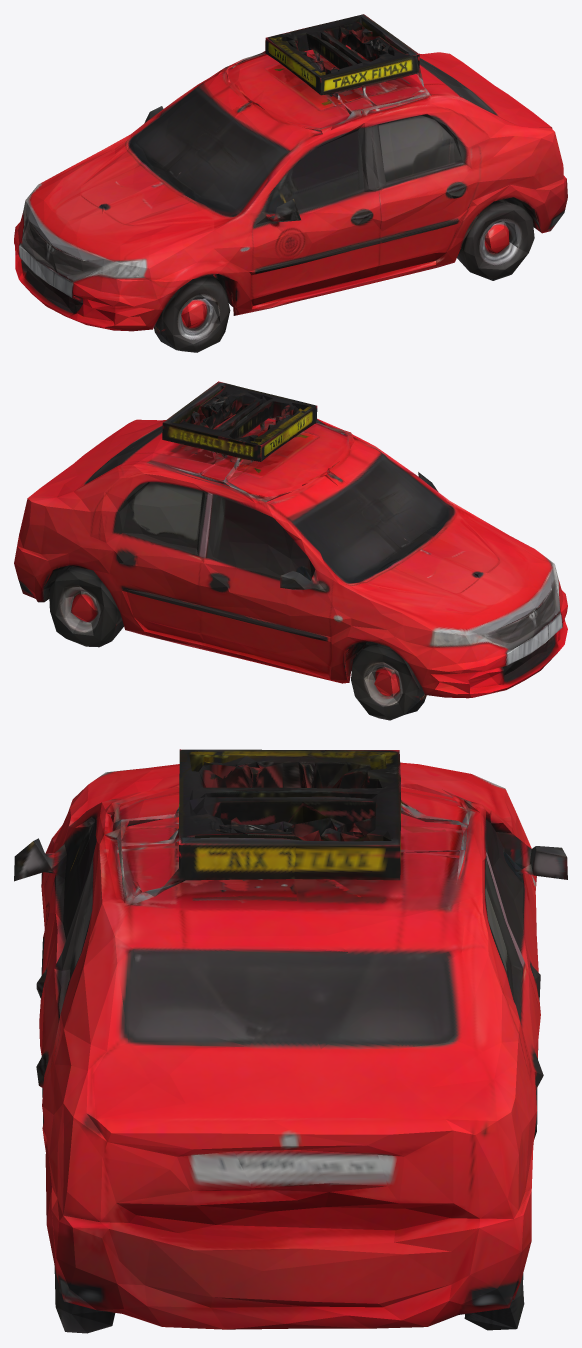
Rendered from Red_Petit_Taxi_in_Mot_0622113944_texture.fbx.
The picture shows the model from 3 angles, top to bottom: view 1: azimuth 30°, elevation 25°; view 2: azimuth 150°, elevation 25°; view 3: azimuth 270°, elevation 25°; orthographic projection. The views are drawn at different scales.
Parts seen in each view (by area): view 1: temp; view 2: temp; view 3: temp.
Boxes of the visible parts, x1=… form: temp: x1=14, y1=14, x2=567, y2=352; temp: x1=14, y1=381, x2=567, y2=720; temp: x1=14, y1=749, x2=567, y2=1333.
Size of the model in its own units: 199 by 86.59 by 101.
Materials: 1 (1 with a texture image).
